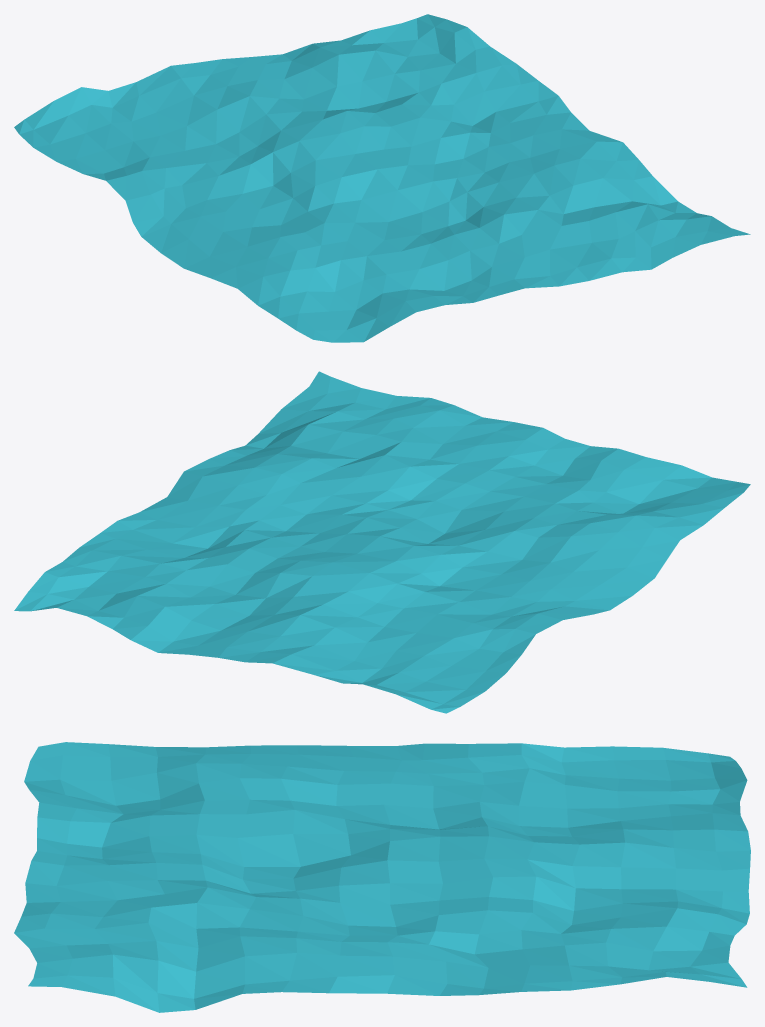
Rendered from water.obj.
The picture shows the model from 3 angles, top to bottom: view 1: azimuth 30°, elevation 25°; view 2: azimuth 150°, elevation 25°; view 3: azimuth 270°, elevation 25°; orthographic projection. The views are drawn at different scales.
Parts seen in each view (by area): view 1: Mesh_9; view 2: Mesh_9; view 3: Mesh_9.
Boxes of the visible parts, x1=… form: Mesh_9: x1=14, y1=14, x2=750, y2=342; Mesh_9: x1=14, y1=371, x2=750, y2=713; Mesh_9: x1=14, y1=742, x2=750, y2=1012.
Bounding box in the file's own units: 8.02 × 0.4948 × 9.8.
